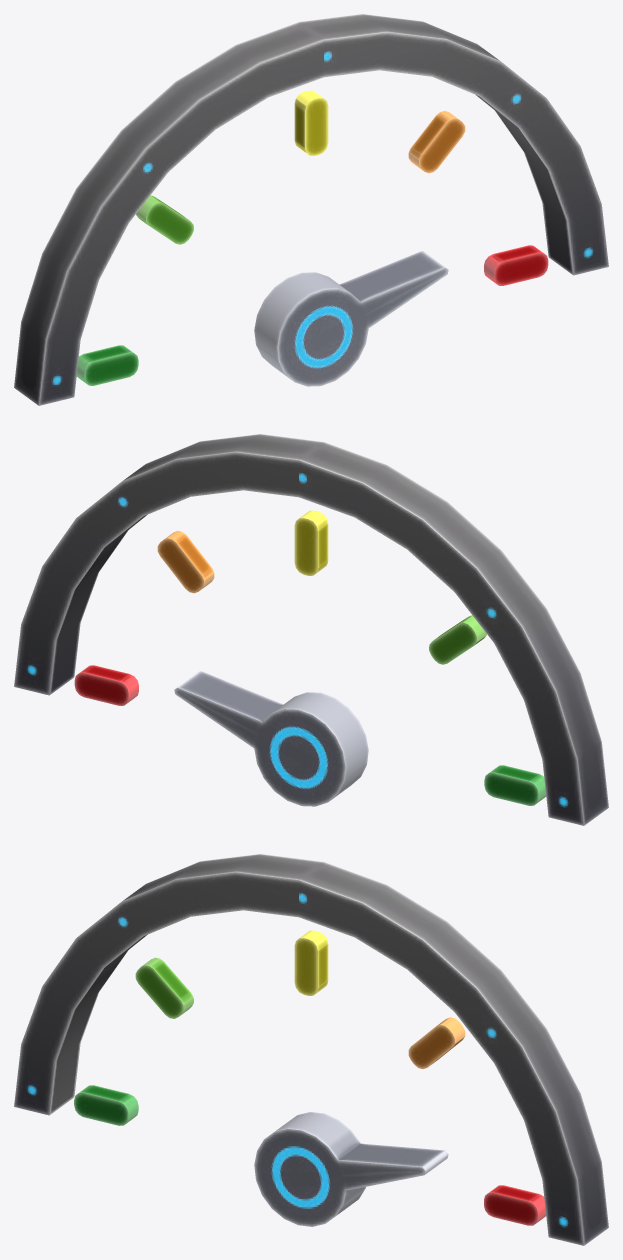
Rendered from speed.glb.
3 views of the same model, one above another, from view 1: azimuth 30°, elevation 25°; view 2: azimuth 150°, elevation 25°; view 3: azimuth 330°, elevation 25° (orthographic).
Visible parts, largest first — view 1: speed; view 2: speed; view 3: speed.
Boxes of the visible parts, x1=… form: speed: x1=14, y1=14, x2=608, y2=405; speed: x1=14, y1=434, x2=608, y2=825; speed: x1=14, y1=854, x2=608, y2=1245.
Bounding box in the file's own units: 6.11 × 3.55 × 0.4627.
1 material, 1 textured.
